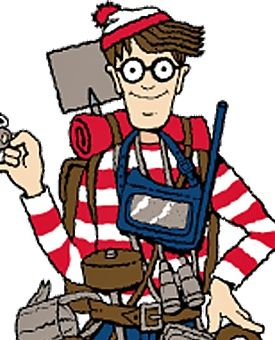waldo: (5, 1, 270, 331), (92, 2, 206, 138)
